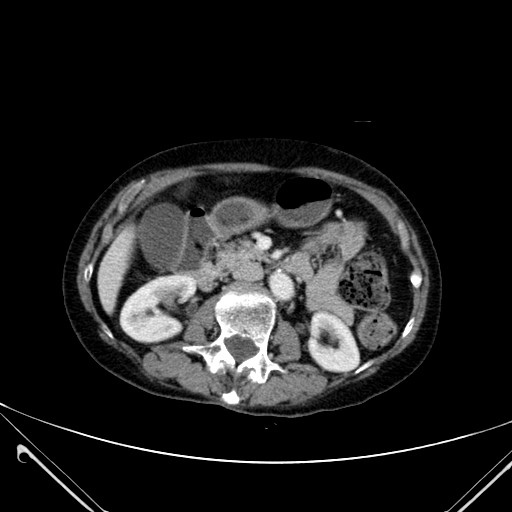vesicula: (134, 199, 192, 278)
